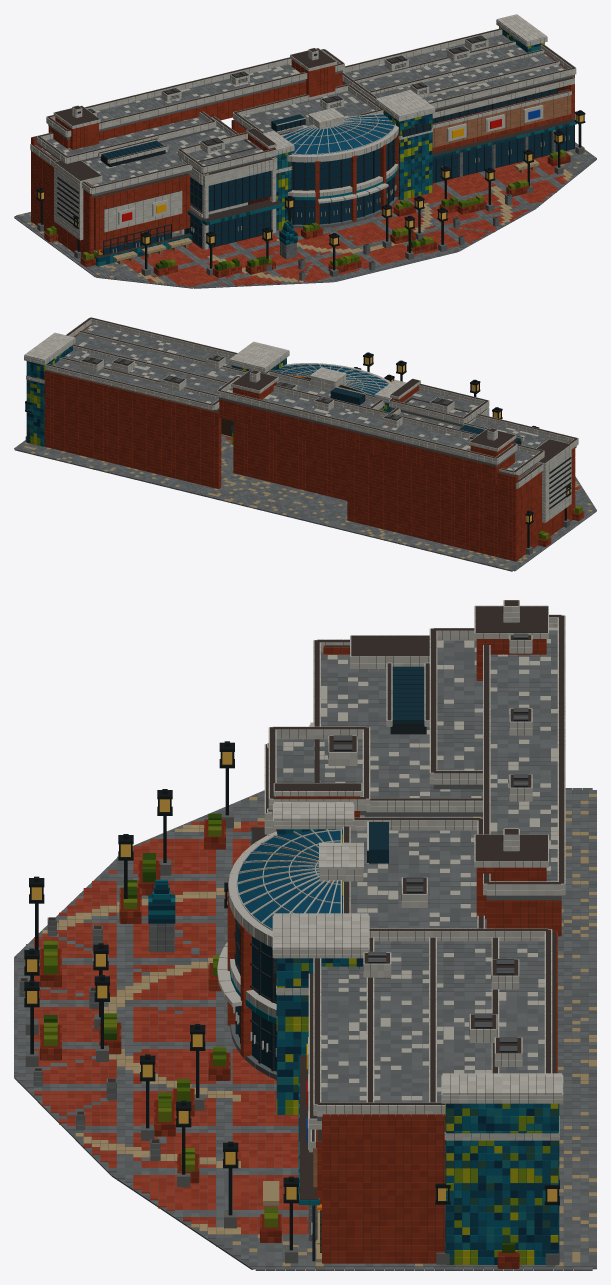
Rendered from SM_Mapa_067.fbx.
3 views of the same model, one above another, from view 1: azimuth 30°, elevation 25°; view 2: azimuth 150°, elevation 25°; view 3: azimuth 270°, elevation 25° (orthographic). The views are drawn at different scales.
Visible parts, largest first — view 1: SM_Mapa_067; view 2: SM_Mapa_067; view 3: SM_Mapa_067.
Boxes of the visible parts, box(x1,y1,x2,y2) form: SM_Mapa_067: box(14, 14, 596, 288); SM_Mapa_067: box(14, 317, 596, 571); SM_Mapa_067: box(14, 600, 596, 1270).
Size of the model in its own units: 65 by 33.13 by 14.28.
